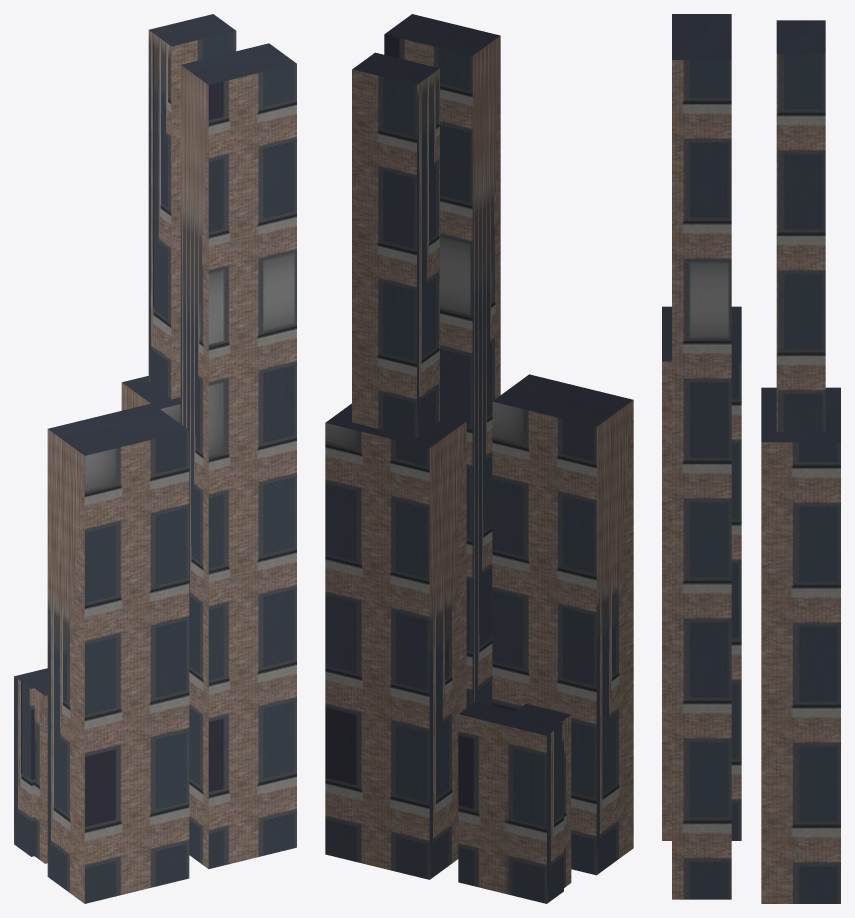
File: city_block_12345_6_24.glb
3 views of the same model, side by side, from view 1: azimuth 30°, elevation 25°; view 2: azimuth 150°, elevation 25°; view 3: azimuth 270°, elevation 25° (orthographic). The views are drawn at different scales.
Parts seen in each view (by area): view 1: block_24; view 2: block_24; view 3: block_24.
Boxes of the visible parts, x1,y1,x2,y2 form: block_24: [14, 14, 296, 903]; block_24: [325, 14, 633, 903]; block_24: [662, 14, 840, 903].
Bounding box in the file's own units: 4.2 × 14 × 2.7.
Materials: 4 (4 with a texture image).
